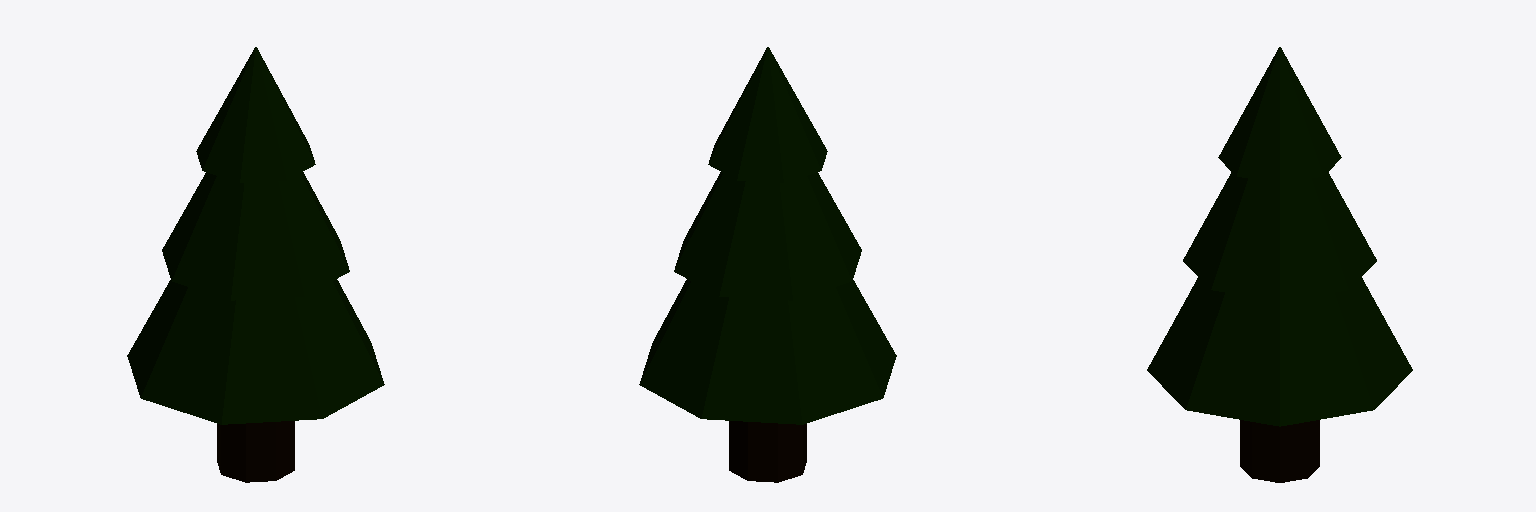
File: CartoonTree.obj
The picture shows the model from 3 angles: view 1: azimuth 30°, elevation 25°; view 2: azimuth 150°, elevation 25°; view 3: azimuth 270°, elevation 25°; orthographic projection.
Visible parts, largest first — view 1: Cone; view 2: Cone; view 3: Cone.
Boxes of the visible parts, x1,y1,x2,y2 form: Cone: [127, 47, 384, 482]; Cone: [639, 47, 896, 482]; Cone: [1147, 47, 1412, 482].
Size of the model in its own units: 0.1903 by 0.3314 by 0.1903.